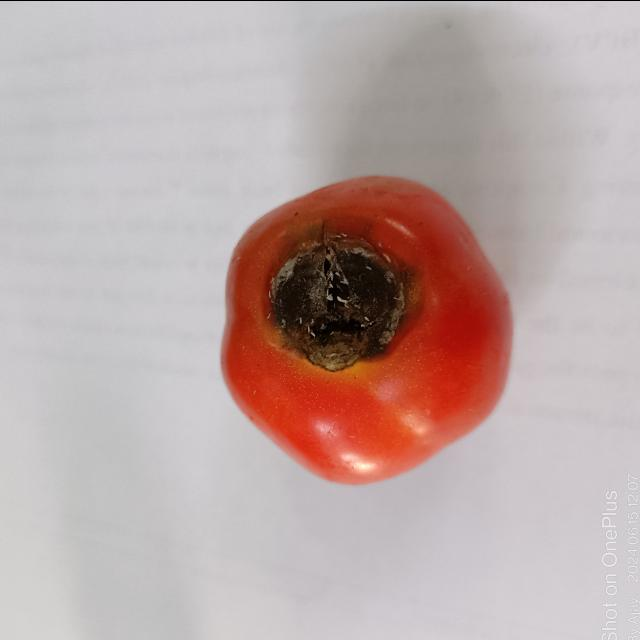Anthrocnose: (260, 242, 414, 392)
